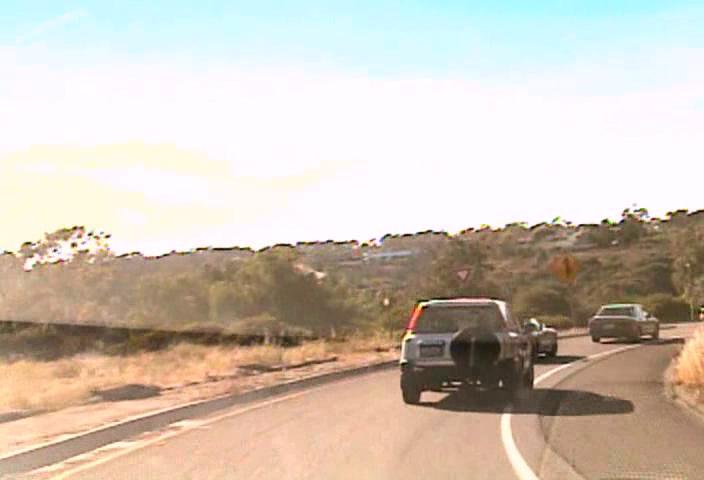yield: (452, 266, 472, 284)
